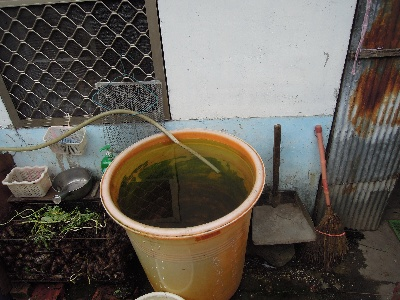bowl: (50, 165, 92, 199)
bucket: (99, 127, 267, 299)
